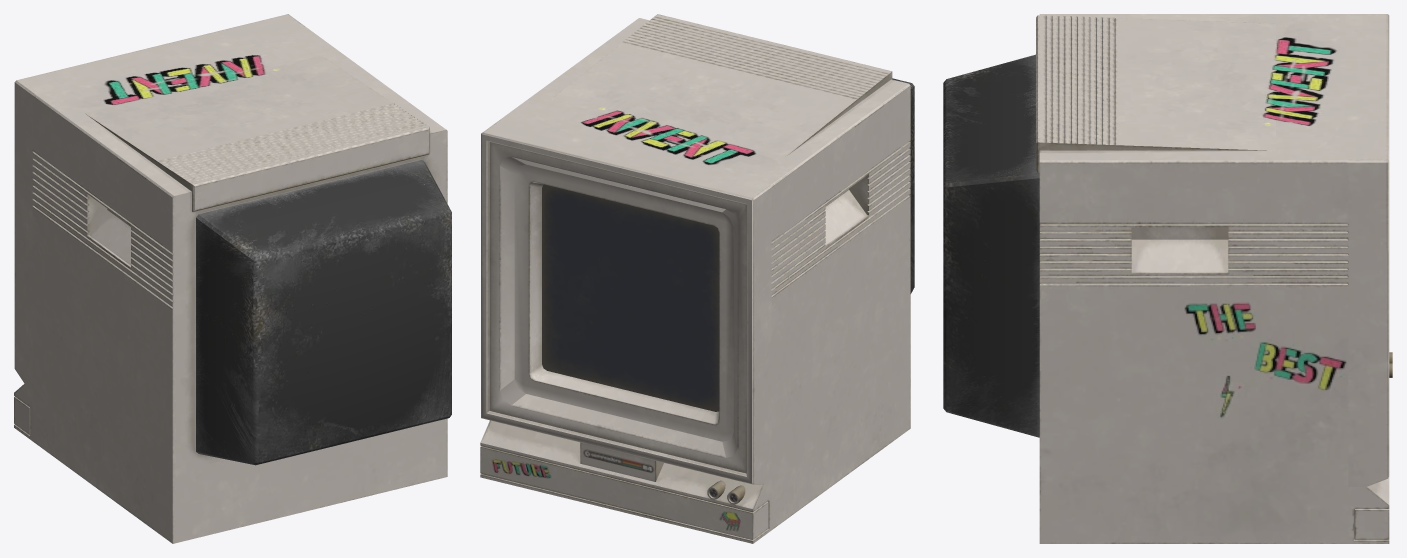
File: c64-monitor.glb
3 views of the same model, side by side, from view 1: azimuth 30°, elevation 25°; view 2: azimuth 150°, elevation 25°; view 3: azimuth 270°, elevation 25° (orthographic). The views are drawn at different scales.
Visible parts, largest first — view 1: Mesh_Default_0; view 2: Mesh_Default_0; view 3: Mesh_Default_0.
Boxes of the visible parts, x1,y1,x2,y2 form: Mesh_Default_0: [14, 14, 451, 543]; Mesh_Default_0: [480, 14, 914, 543]; Mesh_Default_0: [943, 14, 1392, 543].
Bounding box in the file's own units: 39.48 × 48.72 × 50.7.
1 material, 1 textured.
